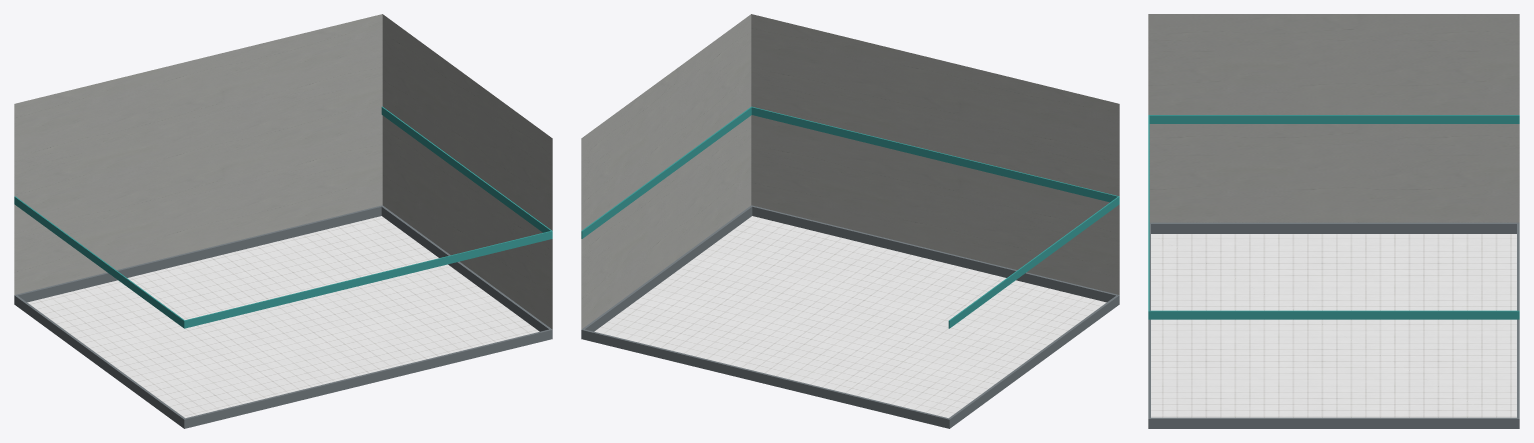
The model's file is er-room.glb.
3 renders of one model, left to right at view 1: azimuth 30°, elevation 25°; view 2: azimuth 150°, elevation 25°; view 3: azimuth 270°, elevation 25°, orthographic. The views are drawn at different scales.
Parts seen in each view (by area): view 1: Wall_front, Floor, Wall_right, Base_-Y, Base_+Y, Accent_-Y, Base_-X, Base_+X, Accent_-X, Accent_+X; view 2: Wall_back, Floor, Wall_right, Base_+Y, Base_-Y, Accent_-Y, Base_-X, Base_+X, Accent_-X, Accent_+X; view 3: Wall_left, Floor, Base_-X, Base_+X, Accent_+X, Accent_-X, Base_+Y, Base_-Y, Accent_-Y.
Boxes of the visible parts, <box> form: Wall_front: <box>14,14,382,294</box>; Floor: <box>27,216,539,418</box>; Wall_right: <box>382,14,552,329</box>; Base_-Y: <box>183,329,552,428</box>; Base_+Y: <box>14,205,383,304</box>; Accent_-Y: <box>184,230,552,328</box>; Base_-X: <box>15,295,186,428</box>; Base_+X: <box>381,206,552,339</box>; Accent_-X: <box>14,196,184,328</box>; Accent_+X: <box>381,106,552,232</box>; Wall_back: <box>751,14,1119,294</box>; Floor: <box>594,216,1106,418</box>; Wall_right: <box>581,14,751,329</box>; Base_+Y: <box>581,329,950,428</box>; Base_-Y: <box>750,205,1119,304</box>; Accent_-Y: <box>751,106,1118,202</box>; Base_-X: <box>947,295,1118,428</box>; Base_+X: <box>581,206,752,339</box>; Accent_-X: <box>948,196,1119,328</box>; Accent_+X: <box>581,107,751,238</box>; Wall_left: <box>1148,14,1519,222</box>; Floor: <box>1151,234,1516,417</box>; Base_-X: <box>1151,222,1516,233</box>; Base_+X: <box>1151,417,1516,428</box>; Accent_+X: <box>1148,310,1519,319</box>; Accent_-X: <box>1148,115,1519,123</box>; Base_+Y: <box>1517,222,1519,428</box>; Base_-Y: <box>1148,222,1150,428</box>; Accent_-Y: <box>1148,115,1149,311</box>.
Bounding box in the file's own units: 5 × 2.6 × 4.
6 materials, 2 textured.
